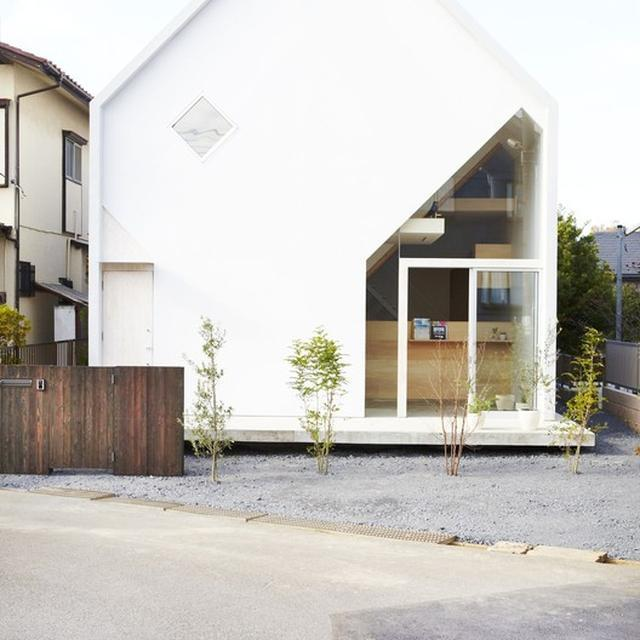building: (88, 0, 591, 449), (0, 34, 85, 335)
